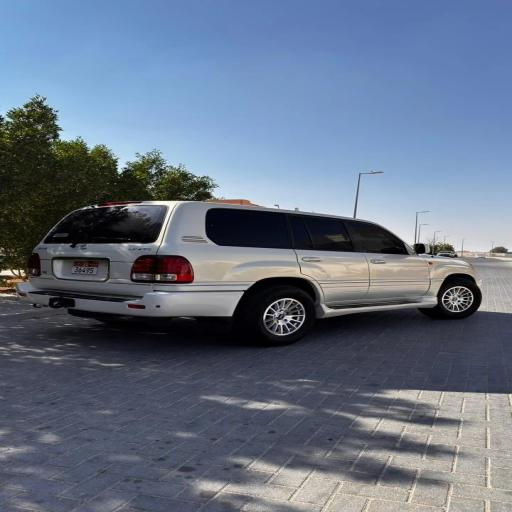license-plates: (70, 261, 100, 275)
